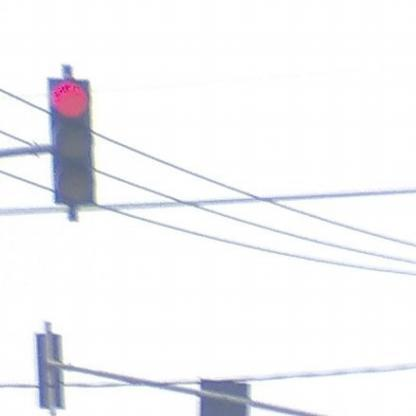red: (48, 79, 96, 204)
